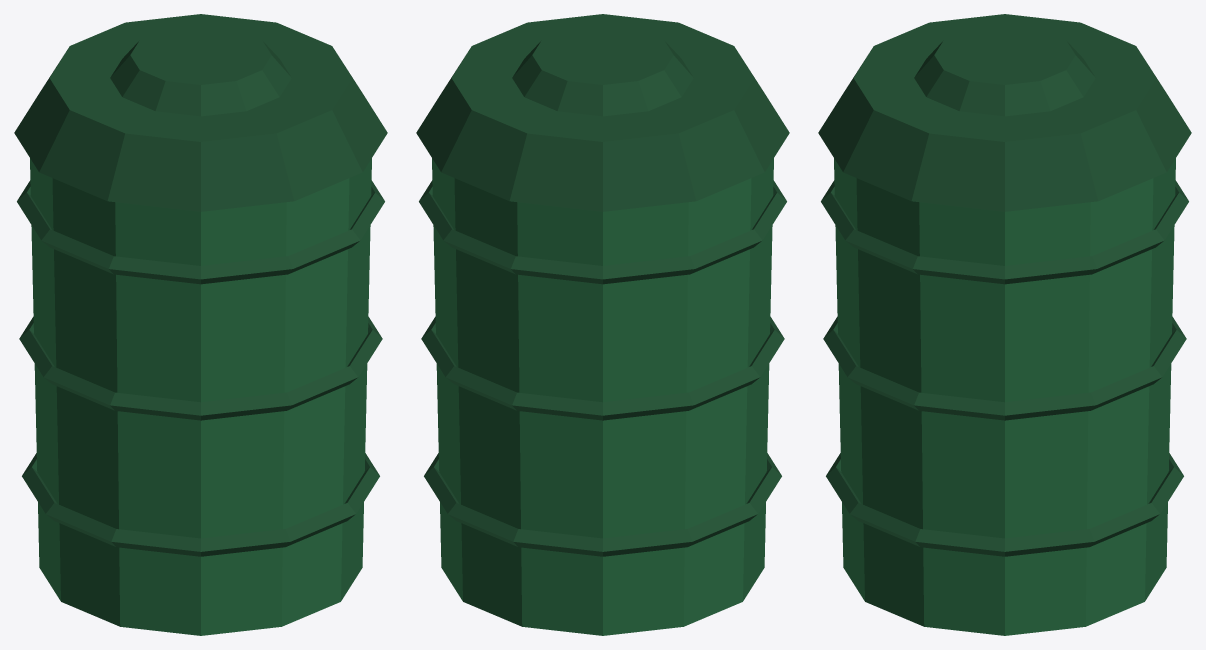
Rendered from trash_can.glb.
3 views of the same model, side by side, from view 1: azimuth 30°, elevation 25°; view 2: azimuth 150°, elevation 25°; view 3: azimuth 270°, elevation 25° (orthographic).
Visible parts, largest first — view 1: trash_can; view 2: trash_can; view 3: trash_can.
Part boxes in pixels (x1,y1,x2,y2): trash_can: (14,14,387,635); trash_can: (416,14,789,635); trash_can: (818,14,1191,635).
Bounding box in the file's own units: 0.74 × 1.12 × 0.74.
